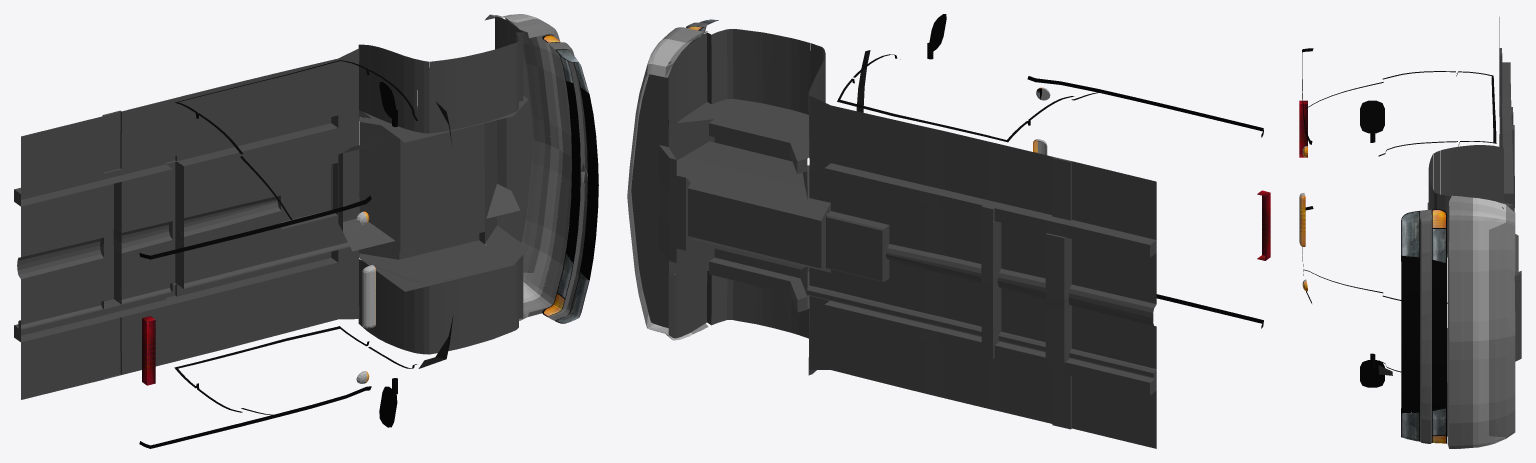
File: details.obj
3 renders of one model, left to right at view 1: azimuth 30°, elevation 25°; view 2: azimuth 150°, elevation 25°; view 3: azimuth 270°, elevation 25°, orthographic. The views are drawn at different scales.
Visible parts, largest first — view 1: 7_-_Default, 3_-_Default, 1_-_Default, 2_-_Default, map, 4_-_Default; view 2: 7_-_Default, 3_-_Default, 1_-_Default, 2_-_Default, map; view 3: 1_-_Default, 3_-_Default, 7_-_Default, 2_-_Default, map, 4_-_Default.
Part boxes in pixels (bbox=[...]): 7_-_Default: bbox=[14, 16, 533, 399]; 3_-_Default: bbox=[139, 35, 598, 448]; 1_-_Default: bbox=[485, 14, 571, 320]; 2_-_Default: bbox=[356, 14, 563, 383]; map: bbox=[142, 35, 588, 385]; 4_-_Default: bbox=[548, 42, 587, 320]; 7_-_Default: bbox=[631, 29, 1156, 448]; 3_-_Default: bbox=[668, 14, 1263, 328]; 1_-_Default: bbox=[627, 27, 708, 339]; 2_-_Default: bbox=[632, 39, 1050, 340]; map: bbox=[673, 19, 1270, 274]; 1_-_Default: bbox=[1447, 195, 1515, 448]; 3_-_Default: bbox=[1302, 48, 1496, 443]; 7_-_Default: bbox=[1427, 17, 1521, 436]; 2_-_Default: bbox=[1299, 146, 1505, 447]; map: bbox=[1299, 100, 1445, 443]; 4_-_Default: bbox=[1420, 209, 1431, 443].
Bounding box in the file's own units: 3.7 × 2.29 × 1.61.
Materials: 7 (1 with a texture image).
